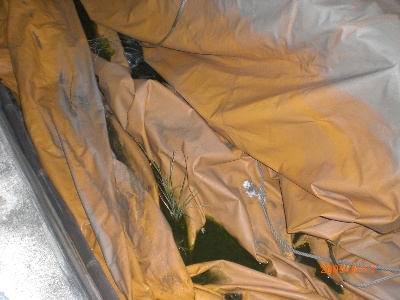plastic_bag: (5, 1, 399, 299)
